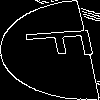F: (24, 25, 100, 61)
